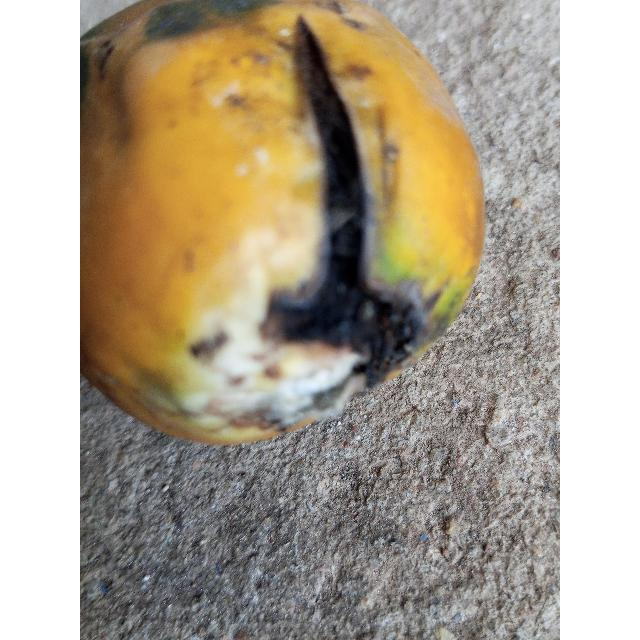damaged: (80, 0, 486, 449)
